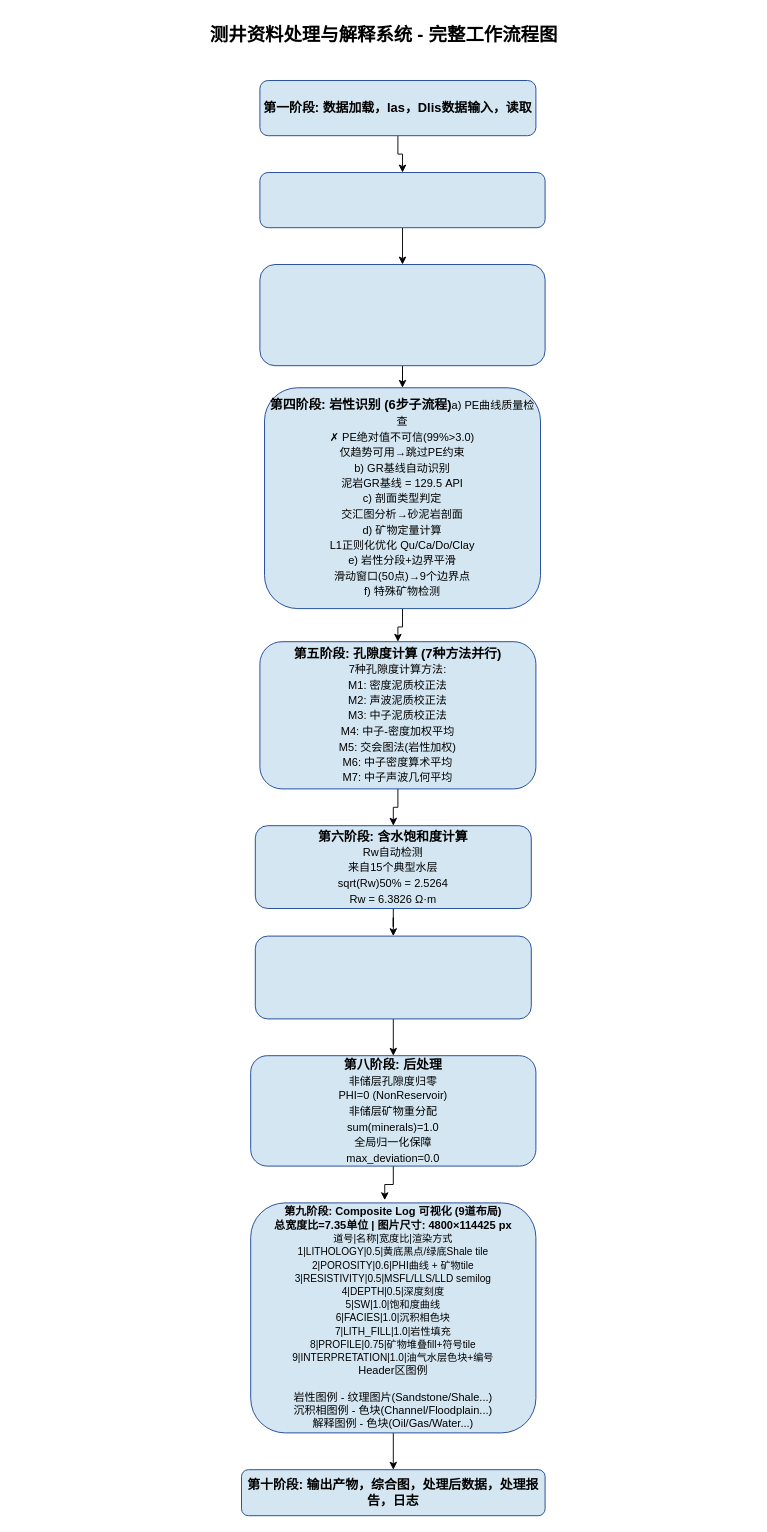
This 767x1532 diagram has some shape labels left out. The centre of each missing label's shape, as x and y in pixels:
第七阶段: 测井解释 多参数联合判别 特征映射: RT→LLD, SW→Sw PHI→PHI, VSH→Vsh 阈值法: Sw, Vsh, Rt, Phi: (x=392, y=977)
第三阶段: 弹簧段校正 三条件判断 : ①跳跃率>30% ②周期性一致 ③与GR无关: (x=402, y=315)
第二阶段: 数据质量检测 (QC)，逐曲线评价，异常值，平头段监测，密度质量，决定孔隙度求取方式: (x=402, y=200)
